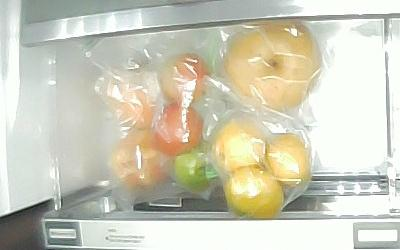peach_vinyl: (110, 130, 168, 189), (106, 76, 160, 130)
pear_vinyl: (223, 21, 321, 112)
tangerine_vinyl: (224, 165, 284, 221), (212, 118, 264, 169), (268, 134, 311, 187)
tomato_vinyl: (158, 51, 207, 105), (153, 102, 202, 156), (173, 141, 215, 196)
